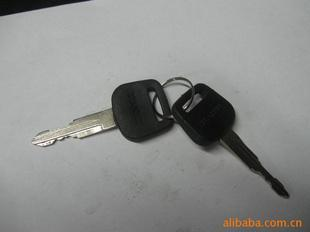key: (172, 69, 295, 207), (31, 74, 176, 156)
